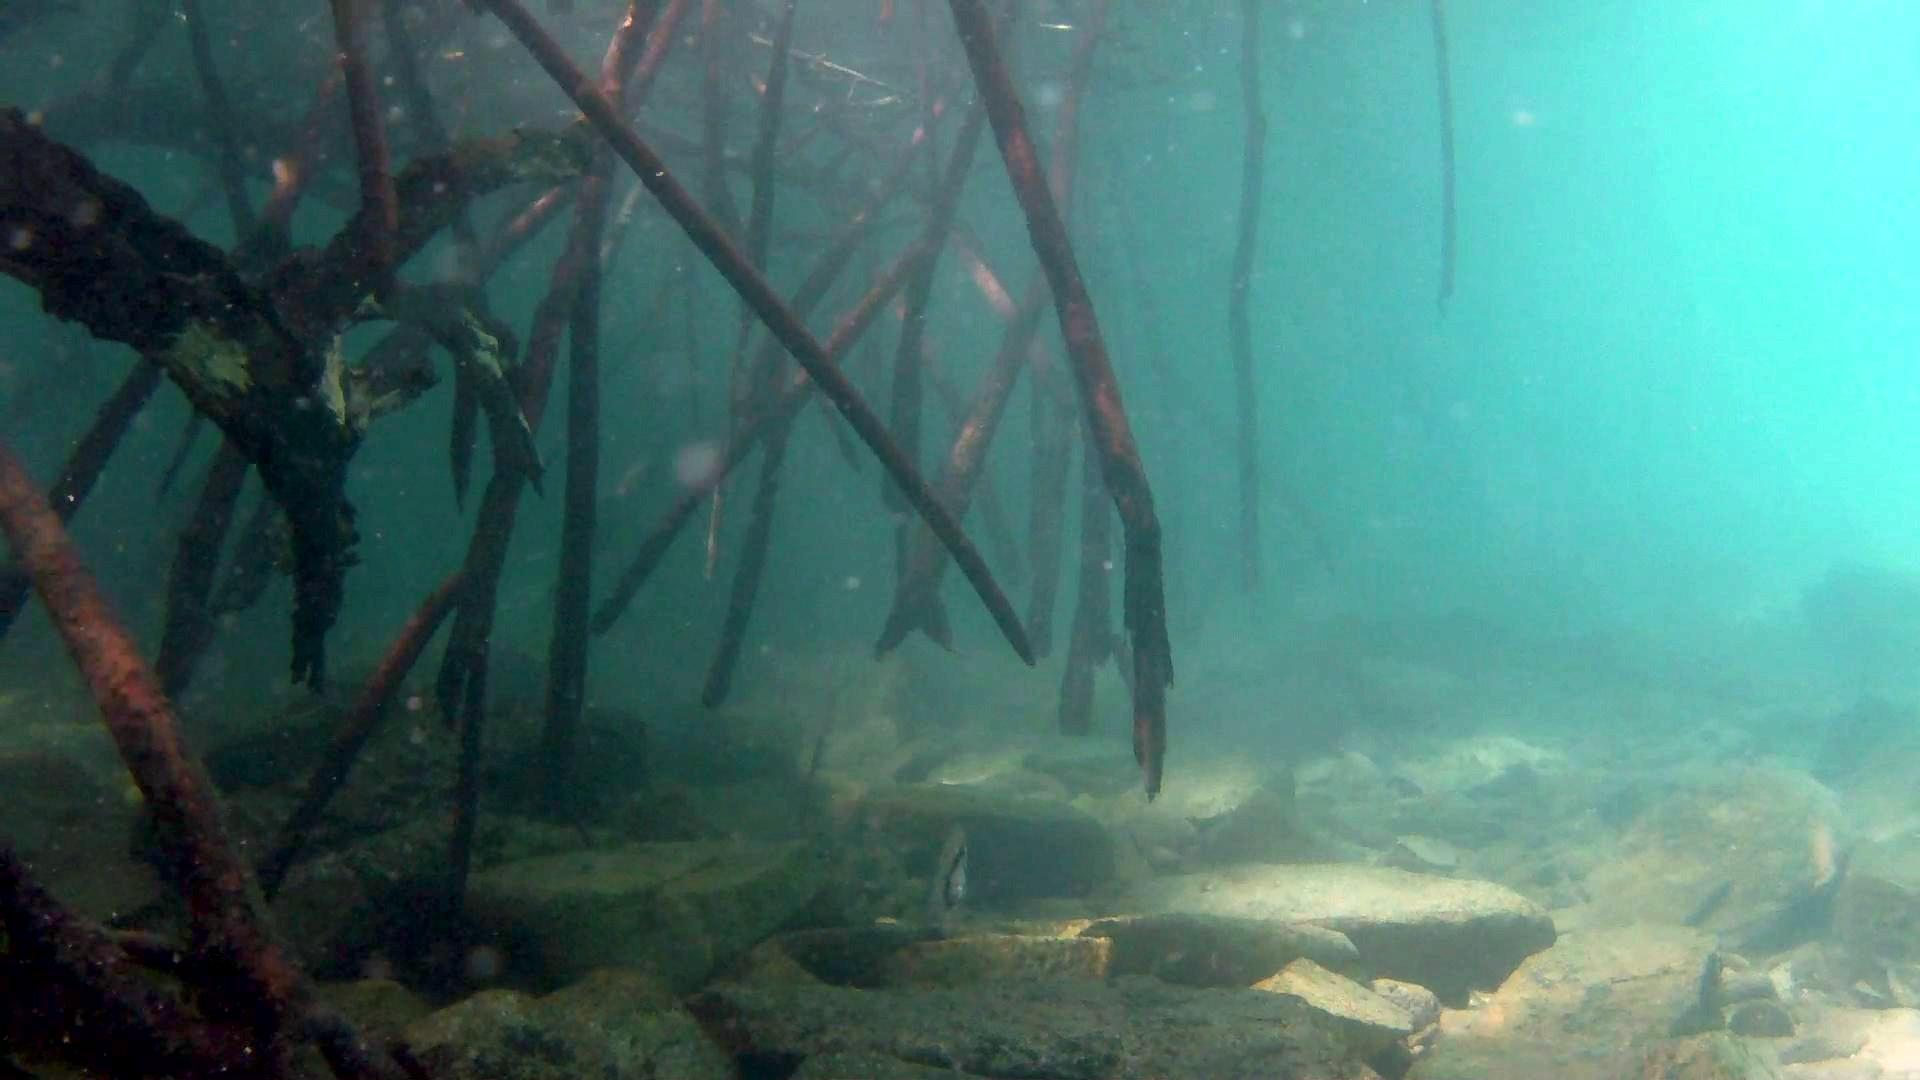chaetodon vagabundus: (920, 816, 975, 936)
